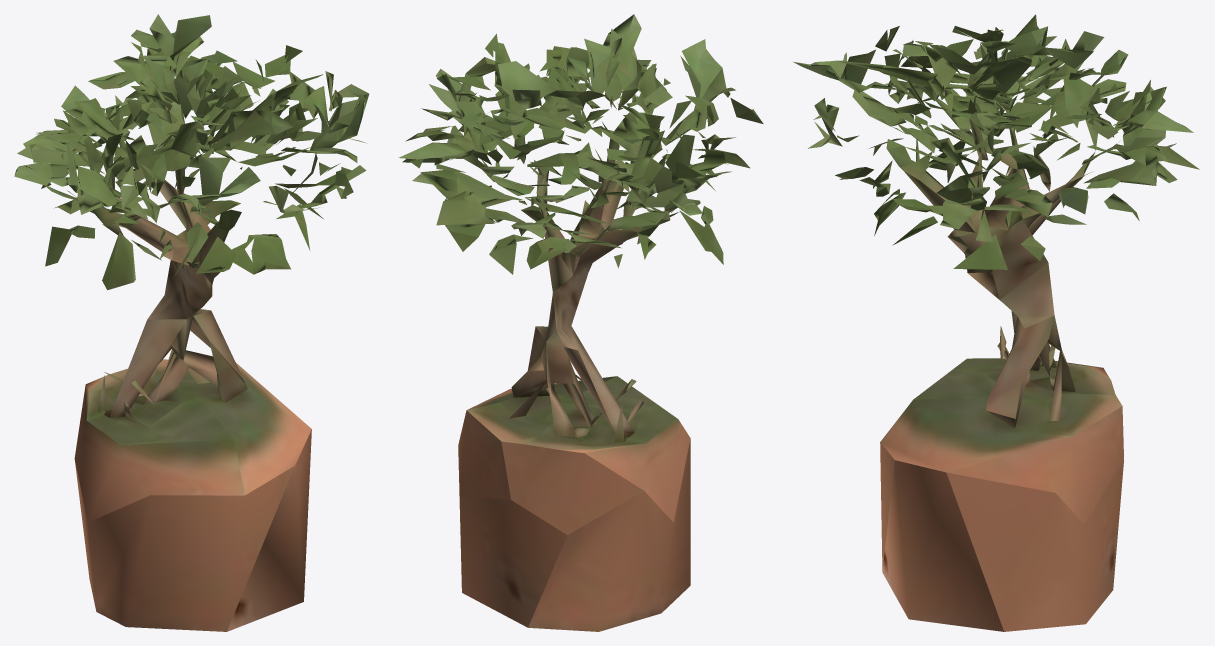
Rendered from pot_bonsai_lod2.glb.
3 views of the same model, side by side, from view 1: azimuth 30°, elevation 25°; view 2: azimuth 150°, elevation 25°; view 3: azimuth 270°, elevation 25° (orthographic). The views are drawn at different scales.
Parts seen in each view (by area): view 1: tripo_node_e0f0a94f-5483-48f9-ae58-18fb5e5d4d31; view 2: tripo_node_e0f0a94f-5483-48f9-ae58-18fb5e5d4d31; view 3: tripo_node_e0f0a94f-5483-48f9-ae58-18fb5e5d4d31.
Boxes of the visible parts, box(x1,y1,x2,y2) form: tripo_node_e0f0a94f-5483-48f9-ae58-18fb5e5d4d31: box(14, 14, 369, 631); tripo_node_e0f0a94f-5483-48f9-ae58-18fb5e5d4d31: box(398, 14, 763, 631); tripo_node_e0f0a94f-5483-48f9-ae58-18fb5e5d4d31: box(793, 14, 1199, 631).
Bounding box in the file's own units: 0.613 × 0.9987 × 0.6505.
1 material, 1 textured.
